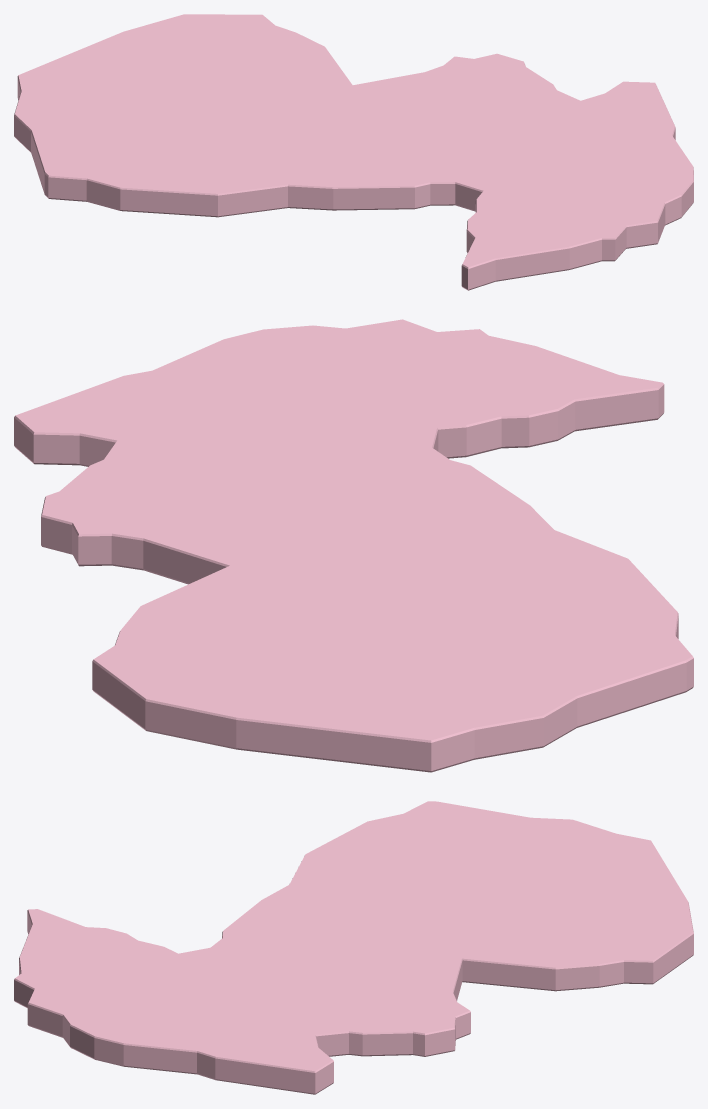
File: PRY.glb
The picture shows the model from 3 angles, top to bottom: view 1: azimuth 30°, elevation 25°; view 2: azimuth 150°, elevation 25°; view 3: azimuth 270°, elevation 25°; orthographic projection. The views are drawn at different scales.
Bounding box in the file's own units: 1.68 × 0.068 × 1.78.
